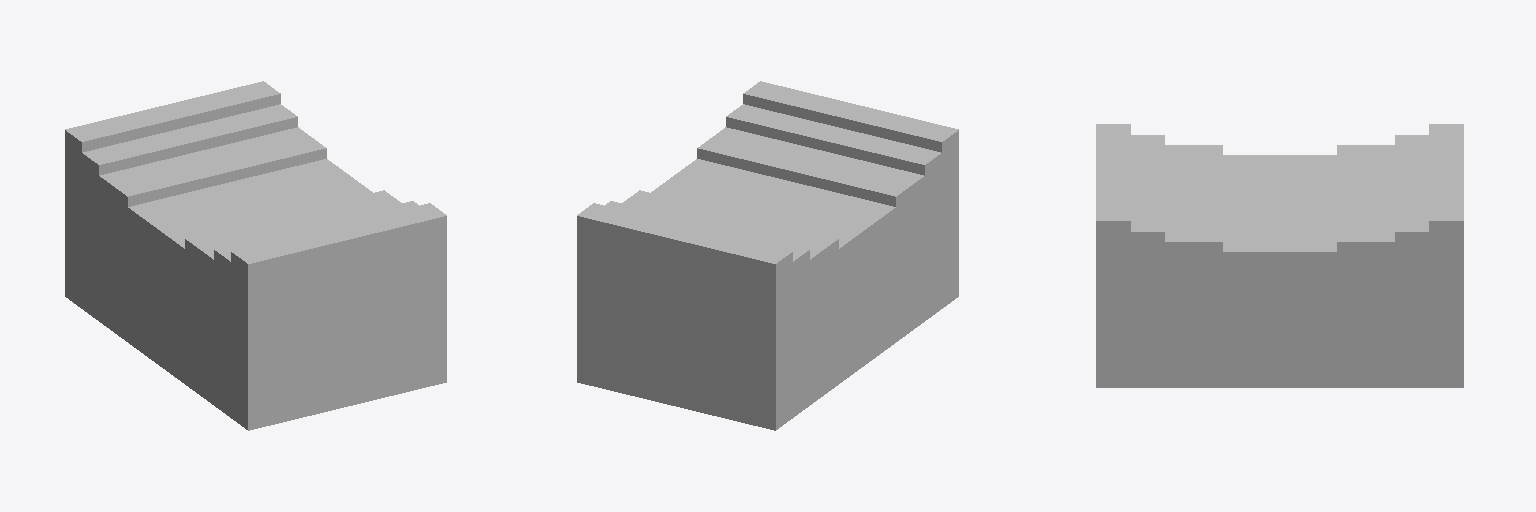
Rendered from knife_stone.obj.
3 renders of one model, left to right at view 1: azimuth 30°, elevation 25°; view 2: azimuth 150°, elevation 25°; view 3: azimuth 270°, elevation 25°, orthographic.
Parts seen in each view (by area): view 1: cube; view 2: cube; view 3: cube.
Part boxes in pixels (x1,y1,x2,y2): cube: (65, 81, 446, 430); cube: (577, 81, 958, 430); cube: (1096, 124, 1463, 387).
Bounding box in the file's own units: 0.625 × 0.5 × 1.